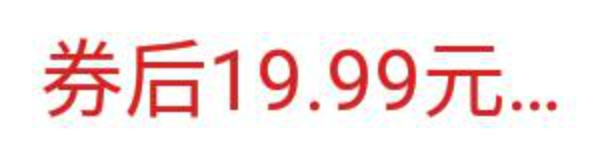TextView: (1, 1, 599, 153)
